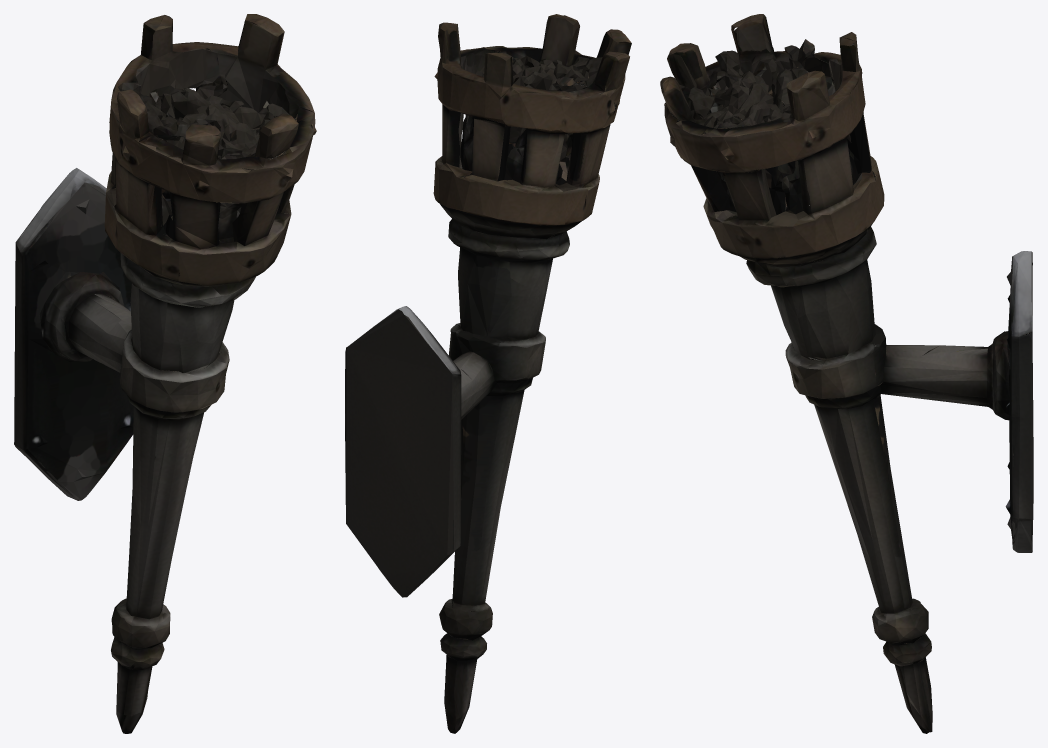
Rendered from wallTorch1.glb.
3 views of the same model, side by side, from view 1: azimuth 30°, elevation 25°; view 2: azimuth 150°, elevation 25°; view 3: azimuth 270°, elevation 25° (orthographic). The views are drawn at different scales.
Visible parts, largest first — view 1: geometry_0; view 2: geometry_0; view 3: geometry_0.
Part boxes in pixels (<box>): geometry_0: <box>14,14,316,733</box>; geometry_0: <box>345,14,631,733</box>; geometry_0: <box>660,14,1033,733</box>.
Size of the model in its own units: 0.5165 by 1.99 by 0.9721.
1 material, 1 textured.
